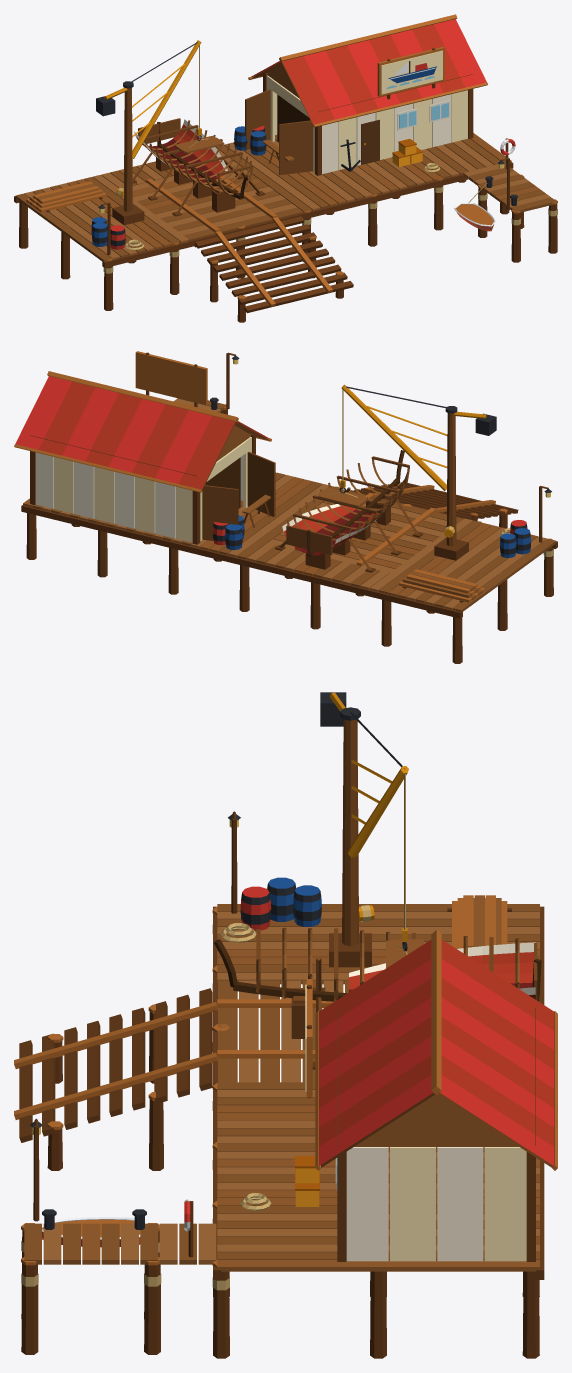
The model's file is shipyard.glb.
3 views of the same model, one above another, from view 1: azimuth 30°, elevation 25°; view 2: azimuth 150°, elevation 25°; view 3: azimuth 270°, elevation 25° (orthographic). The views are drawn at different scales.
Parts seen in each view (by area): view 1: pier, workshop, slipway, hull, props, crane; view 2: workshop, pier, hull, crane, props, slipway; view 3: workshop, pier, slipway, crane, props, hull.
Boxes of the visible parts, x1=… form: pier: x1=14, y1=133, x2=557, y2=310; workshop: x1=245, y1=14, x2=487, y2=175; slipway: x1=146, y1=176, x2=353, y2=322; hull: x1=132, y1=118, x2=265, y2=216; props: x1=26, y1=126, x2=440, y2=250; crane: x1=96, y1=40, x2=224, y2=225; workshop: x1=14, y1=351, x2=275, y2=544; pier: x1=21, y1=352, x2=557, y2=663; hull: x1=275, y1=450, x2=422, y2=572; crane: x1=318, y1=384, x2=496, y2=560; props: x1=212, y1=492, x2=531, y2=602; slipway: x1=295, y1=482, x2=518, y2=566; workshop: x1=305, y1=930, x2=557, y2=1261; pier: x1=21, y1=811, x2=544, y2=1358; slipway: x1=14, y1=988, x2=333, y2=1170; crane: x1=320, y1=692, x2=423, y2=968; props: x1=221, y1=877, x2=511, y2=1210; hull: x1=214, y1=927, x2=541, y2=1069.
Bounding box in the file's own units: 20.2 × 9.26 × 12.64.
